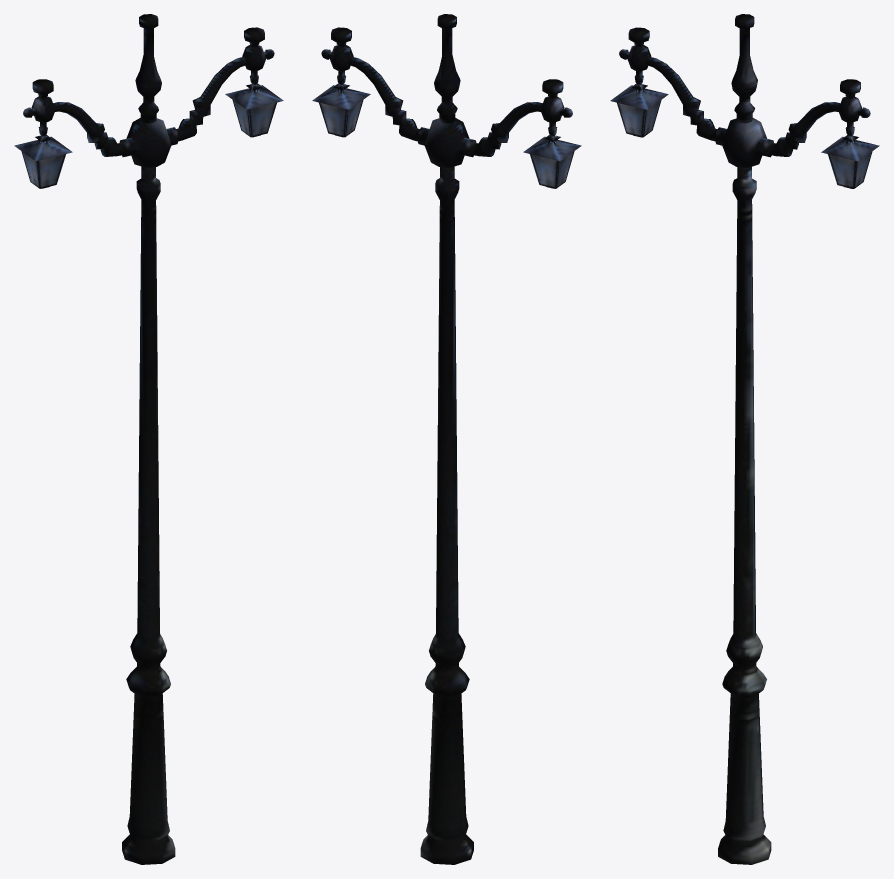
Rendered from StreetLampBig.fbx.
The picture shows the model from 3 angles, left to right: view 1: azimuth 30°, elevation 25°; view 2: azimuth 150°, elevation 25°; view 3: azimuth 330°, elevation 25°; orthographic projection.
Visible parts, largest first — view 1: big; view 2: big; view 3: big.
Boxes of the visible parts, x1,y1,x2,y2 form: big: (14,14,283,864); big: (312,14,581,864); big: (610,14,879,864).
Size of the model in its own units: 278 by 889 by 53.
